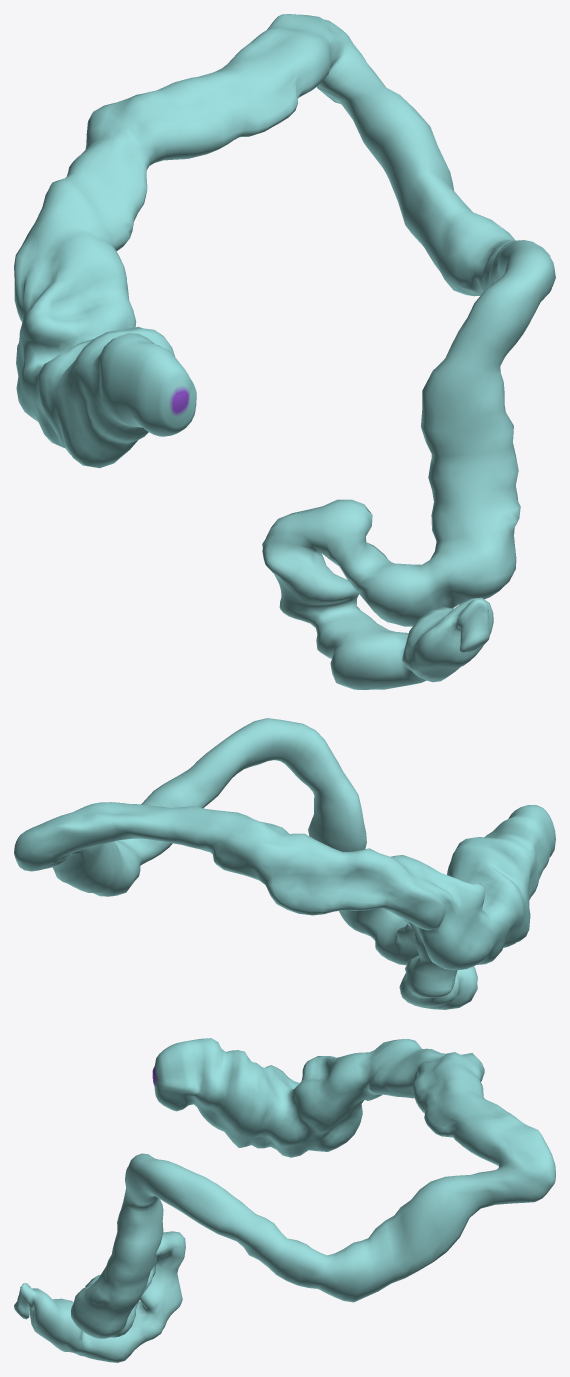
Rendered from Colon1_Serosa.fbx.
3 renders of one model, top to bottom at view 1: azimuth 30°, elevation 25°; view 2: azimuth 150°, elevation 25°; view 3: azimuth 270°, elevation 25°, orthographic. The views are drawn at different scales.
Parts seen in each view (by area): view 1: Colon1_Serosa; view 2: Colon1_Serosa; view 3: Colon1_Serosa.
Part boxes in pixels (x1,y1,x2,y2): Colon1_Serosa: [14, 14, 555, 689]; Colon1_Serosa: [14, 718, 555, 1009]; Colon1_Serosa: [14, 1038, 555, 1362].
Bounding box in the file's own units: 218 × 166 × 269.
